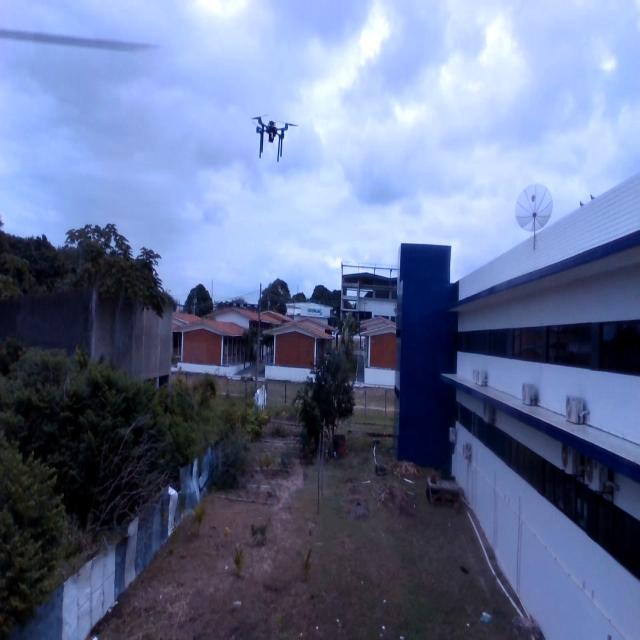-uav-: (244, 102, 302, 184)
